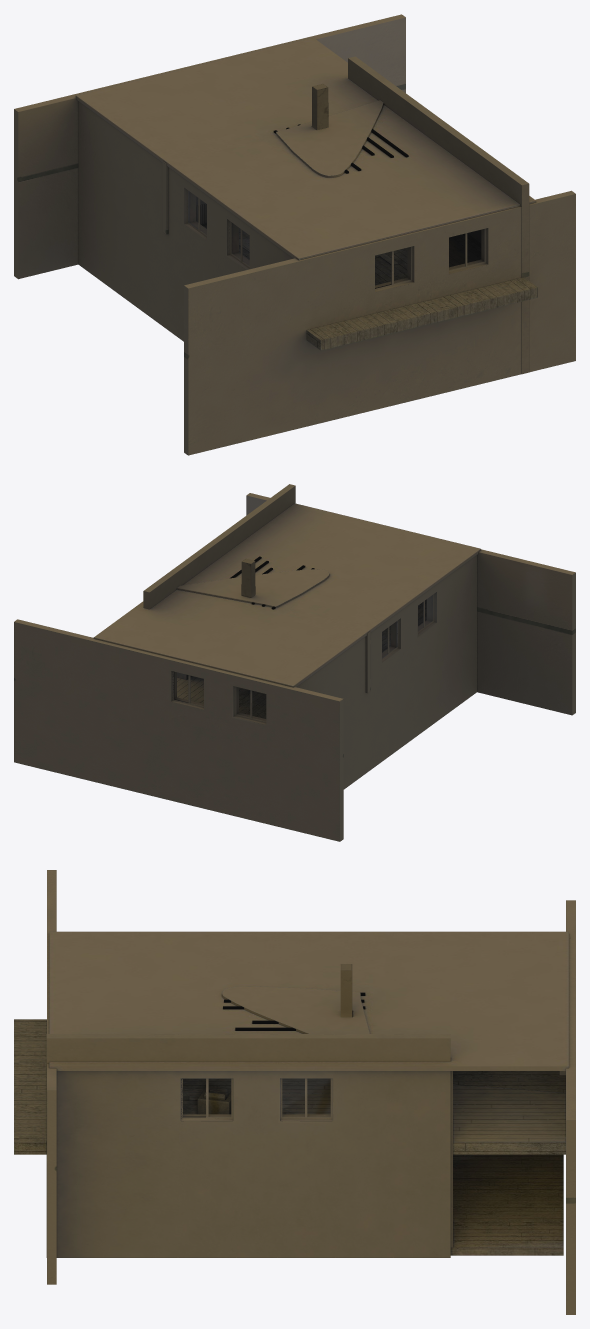
3 renders of one model, top to bottom at view 1: azimuth 30°, elevation 25°; view 2: azimuth 150°, elevation 25°; view 3: azimuth 270°, elevation 25°, orthographic. The views are drawn at different scales.
Visible parts, largest first — view 1: 22_mur_gauche_4, 08_plafond_1, 22_mur_gauche_5, 22_mur_gauche_3, 02_sol_1, 07_mur_droite_1, 09_trou_plafond_1, object 9, 04_premier_mur_1; view 2: 22_mur_gauche_3, 08_plafond_1, 22_mur_gauche_5, 22_mur_gauche_4, 07_mur_droite_1, 09_trou_plafond_1, 02_sol_1, 03_trou_sol_1, object 9; view 3: 07_mur_droite_1, 08_plafond_1, 01_sol_1, 02_sol_1, 03_trou_sol_1, 09_trou_plafond_1, 22_mur_gauche_3, 22_mur_gauche_4, object 9, 15_armature_chaise_1_15_armature_chaise.1_0.
Part boxes in pixels (box(x1,y1,x2,y2)): 22_mur_gauche_4: box(184, 190, 575, 455); 08_plafond_1: box(75, 37, 536, 260); 22_mur_gauche_5: box(78, 101, 292, 341); 22_mur_gauche_3: box(14, 14, 405, 279); 02_sol_1: box(202, 224, 537, 350); 07_mur_droite_1: box(348, 56, 529, 374); 09_trou_plafond_1: box(276, 100, 383, 177); object 9: box(312, 83, 328, 129); 04_premier_mur_1: box(162, 161, 206, 234); 22_mur_gauche_3: box(14, 619, 343, 841); 08_plafond_1: box(93, 503, 480, 687); 22_mur_gauche_5: box(286, 555, 476, 789); 22_mur_gauche_4: box(246, 493, 575, 715); 07_mur_droite_1: box(143, 484, 295, 609); 09_trou_plafond_1: box(176, 569, 329, 607); 02_sol_1: box(239, 599, 426, 718); 03_trou_sol_1: box(177, 676, 239, 703); object 9: box(241, 558, 255, 597); 07_mur_droite_1: box(46, 1034, 450, 1257); 08_plafond_1: box(49, 931, 568, 1070); 01_sol_1: box(450, 1154, 563, 1255); 02_sol_1: box(14, 1019, 565, 1154); 03_trou_sol_1: box(282, 1078, 565, 1141); 09_trou_plafond_1: box(222, 986, 369, 1033); 22_mur_gauche_3: box(559, 900, 575, 1314); 22_mur_gauche_4: box(47, 870, 56, 1284); object 9: box(340, 964, 352, 1017); 15_armature_chaise_1_15_armature_chaise.1_0: box(197, 1087, 231, 1114).
Size of the model in its own units: 30085 by 13745 by 28536.
Materials: 19 (18 with a texture image).
